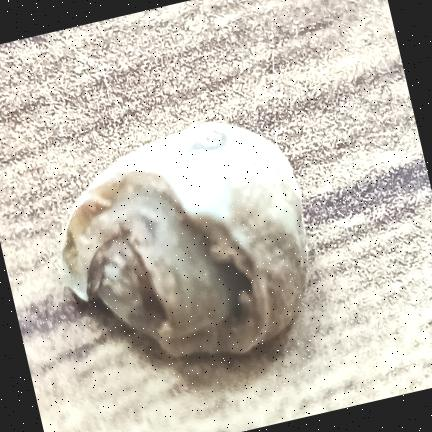cut: (62, 122, 308, 357)
